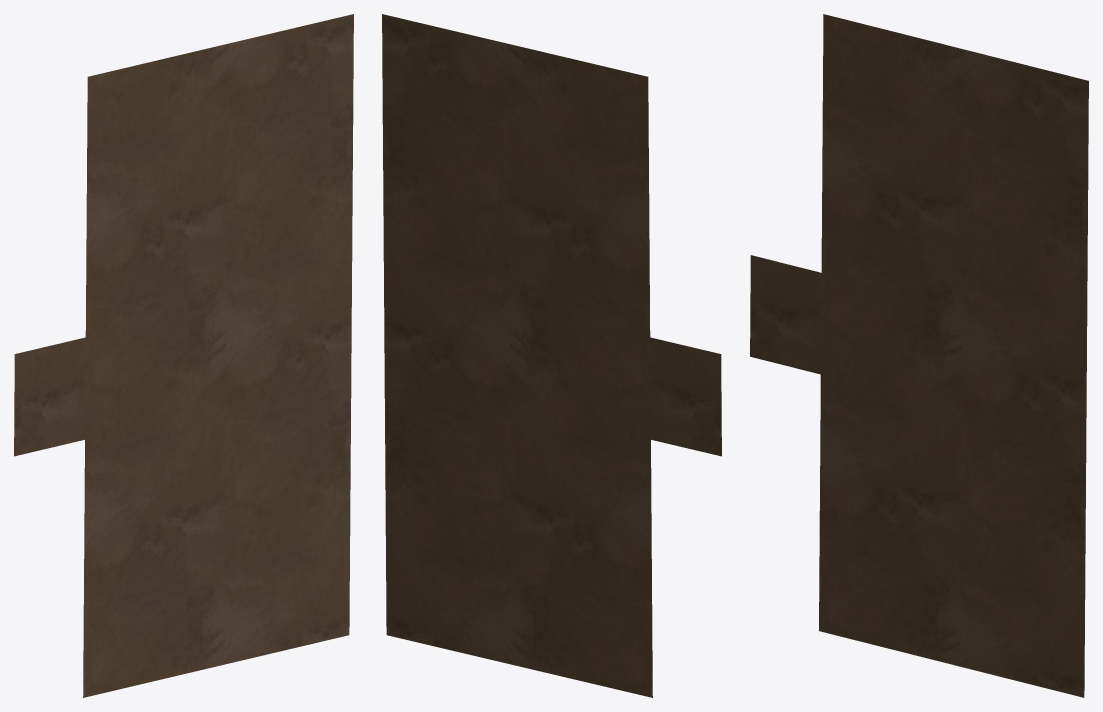
The model's file is GrandmaBossStart_Btm.fbx.
3 views of the same model, side by side, from view 1: azimuth 30°, elevation 25°; view 2: azimuth 150°, elevation 25°; view 3: azimuth 330°, elevation 25° (orthographic).
Parts seen in each view (by area): view 1: DoorStarter; view 2: DoorStarter; view 3: DoorStarter.
Boxes of the visible parts, x1,y1,x2,y2 form: DoorStarter: (14, 14, 353, 697); DoorStarter: (382, 14, 721, 697); DoorStarter: (750, 14, 1088, 697).
Size of what is drawn, in the model's own units: 2708 by 4736 by 0.0103.
